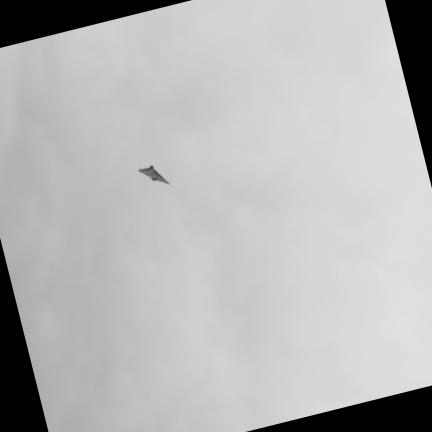Shahed: (137, 164, 170, 185)
